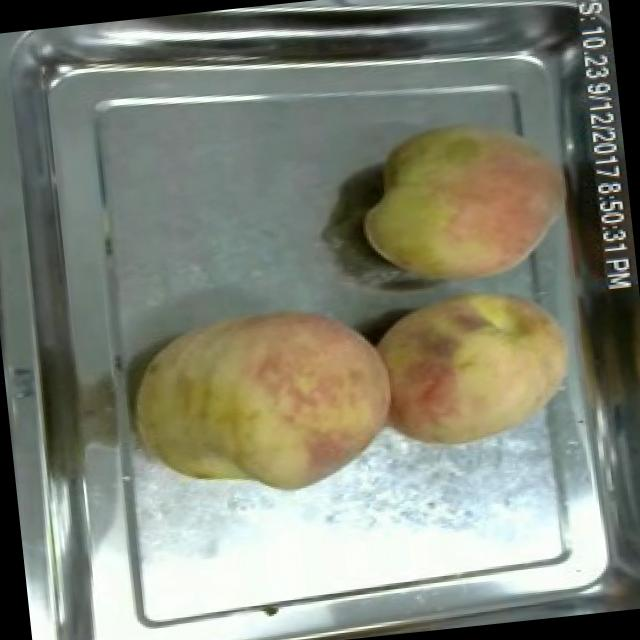Fruit: (120, 289, 407, 512), (344, 102, 583, 304), (359, 266, 597, 464)
